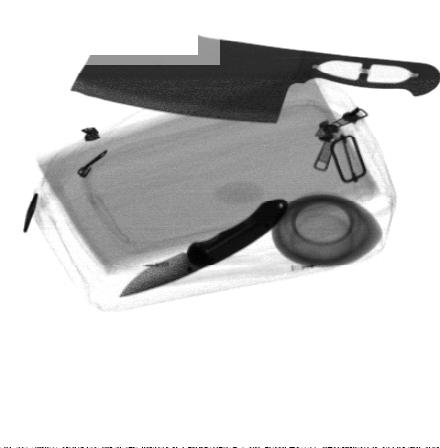Knife: (70, 20, 439, 123), (119, 200, 291, 296)
